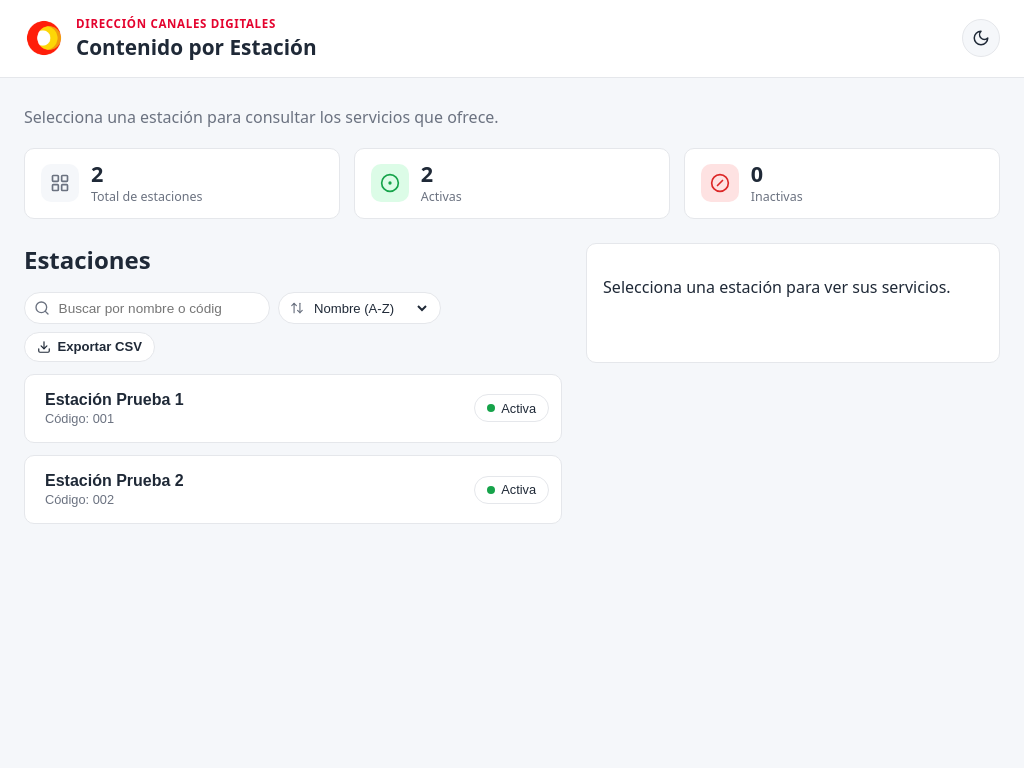
Test: <StationsPage /> (integración) › pide confirmación al inactivar y muestra un toast de éxito al confirmar
Expected: the heading "Estación Prueba 1" is shown, top-left (45, 391), bottom-right (184, 408)
Step 1. Click the 1st switch labelled "Activa" → (511, 408), box top-left (474, 394), bottom-right (549, 422)
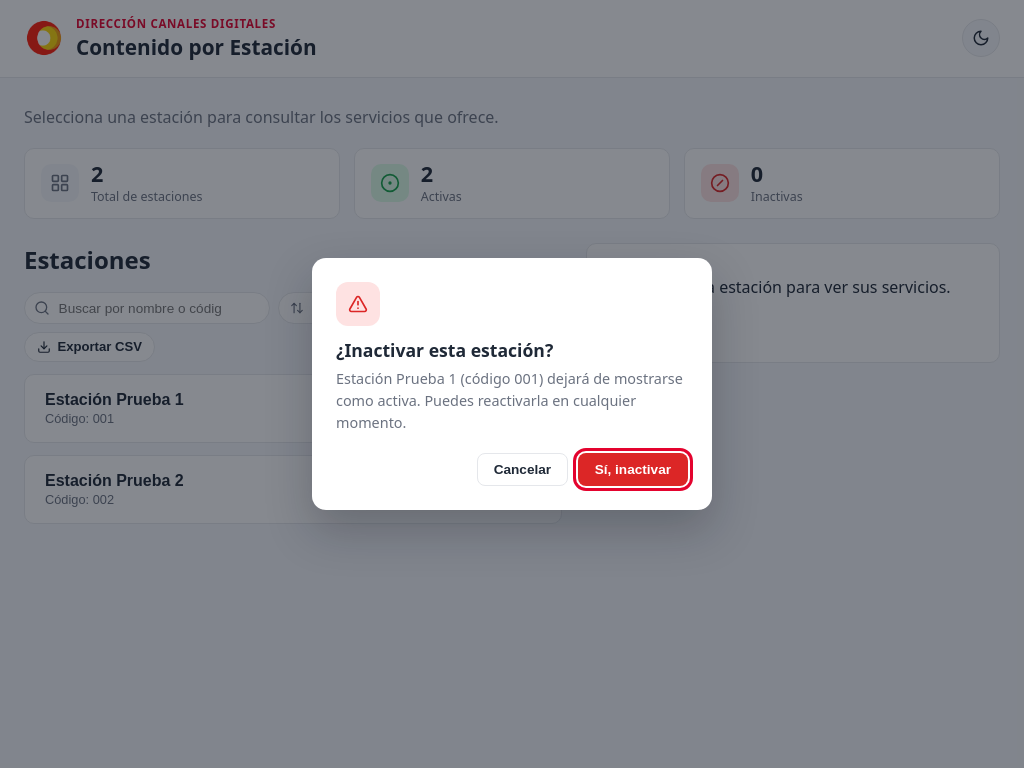
Now the dialog is shown, box top-left (312, 258), bottom-right (712, 510)
Step 2. Click the button "Sí, inactivar" → (633, 470), box top-left (578, 453), bottom-right (688, 486)
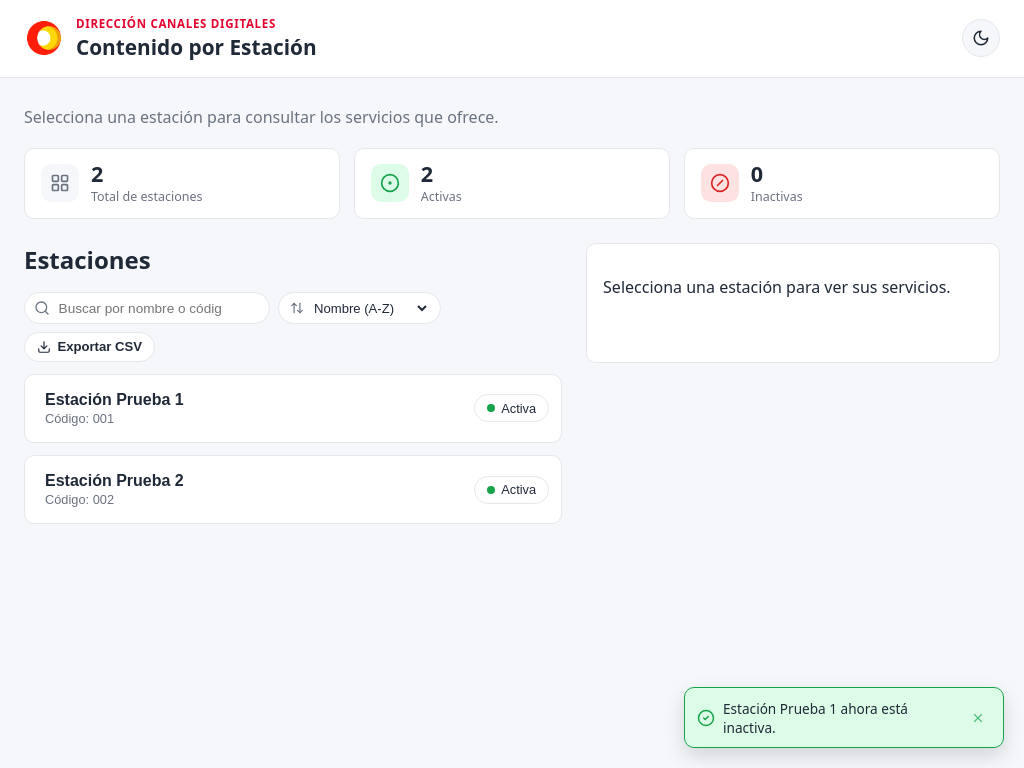
Now the text "Estación Prueba 1 ahora está inactiva." is shown, box top-left (723, 699), bottom-right (908, 737)
